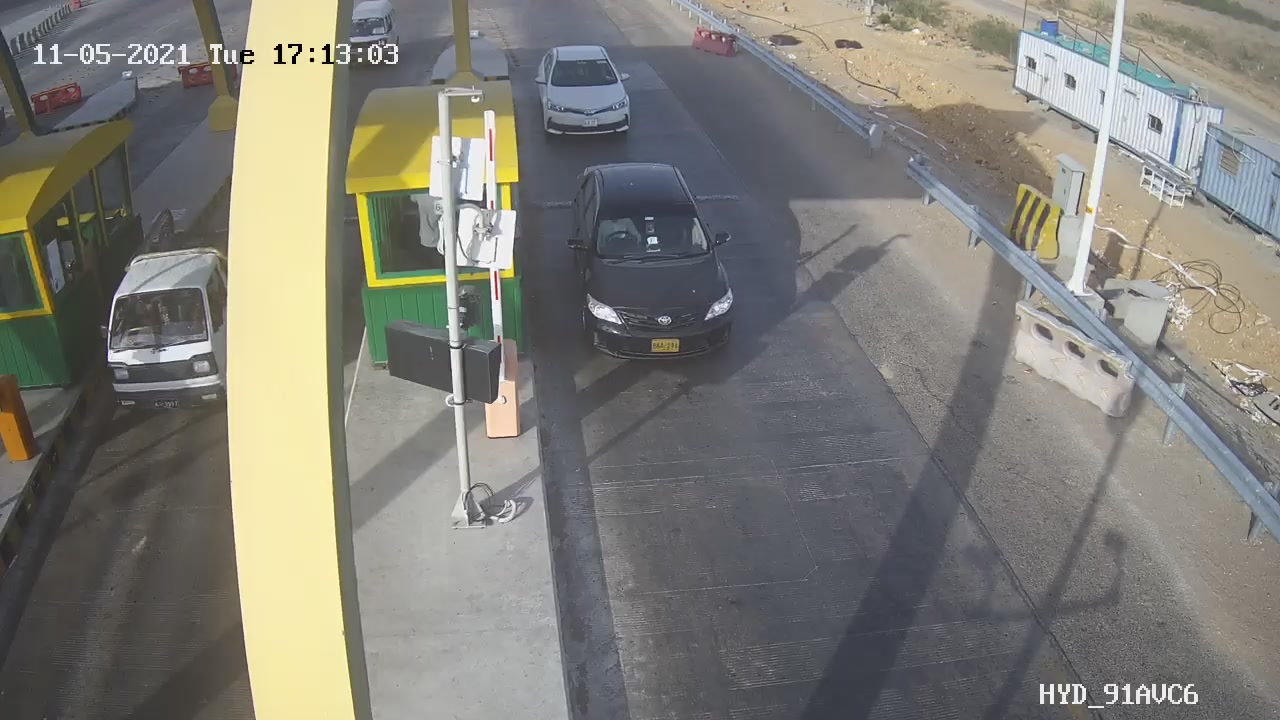F1: (553, 147, 760, 381), (520, 31, 653, 157)
